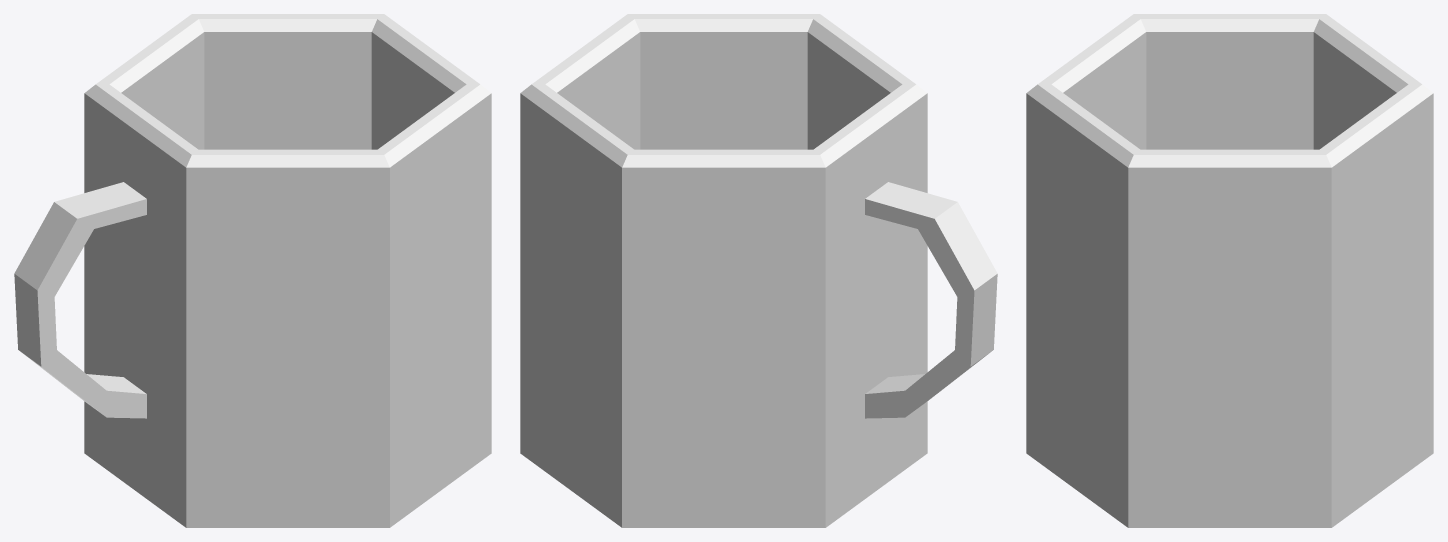
Rendered from Mug.fbx.
3 renders of one model, left to right at view 1: azimuth 30°, elevation 25°; view 2: azimuth 150°, elevation 25°; view 3: azimuth 270°, elevation 25°, orthographic.
Parts seen in each view (by area): view 1: Cube; view 2: Cube; view 3: Cube.
Boxes of the visible parts, <box> form: Cube: <box>14,14,491,527</box>; Cube: <box>520,14,997,527</box>; Cube: <box>1026,14,1433,527</box>.
Size of the model in its own units: 13.33 by 11.33 by 11.33.
